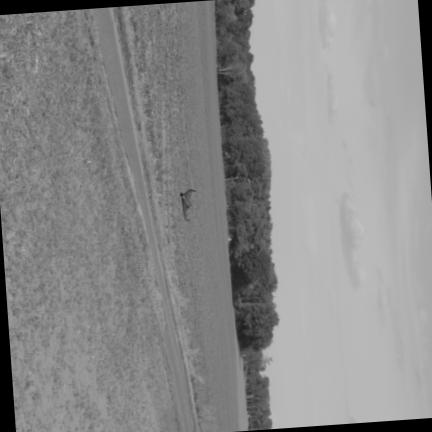Shahed: (179, 189, 194, 220)
